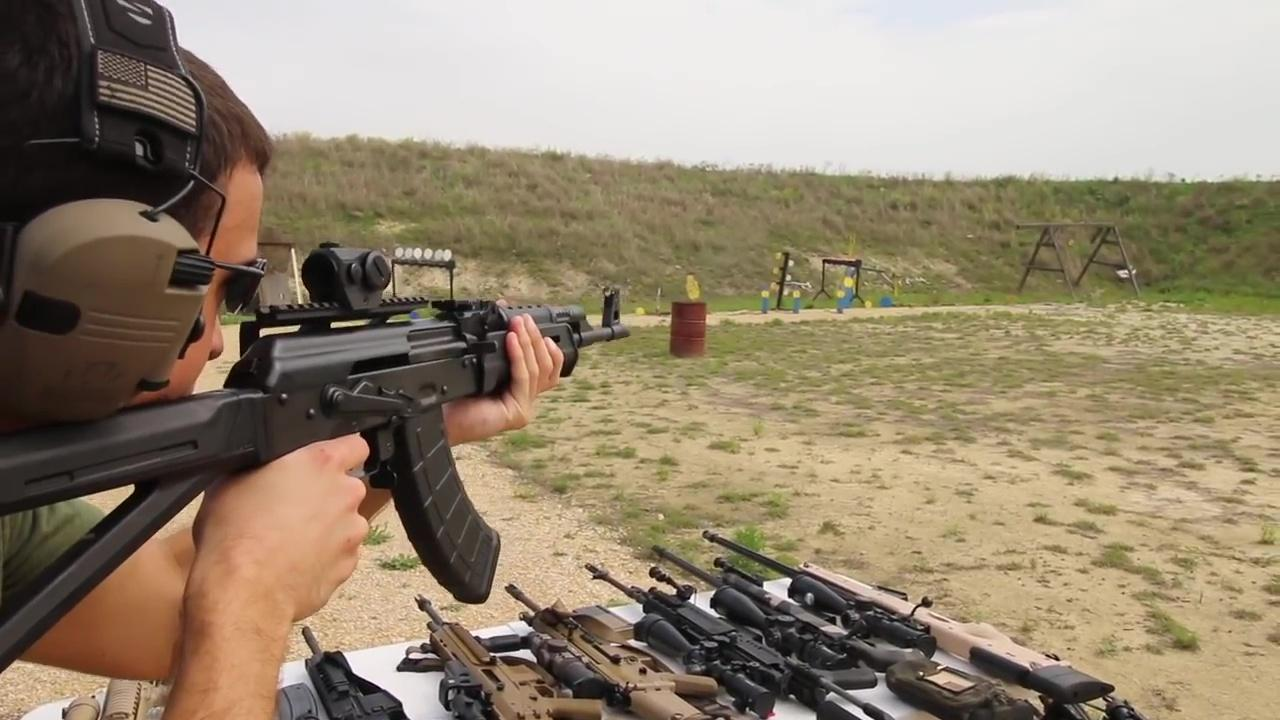Gun: (1, 263, 630, 684), (701, 524, 1139, 701), (645, 534, 1051, 720), (578, 560, 915, 720), (501, 579, 729, 720), (412, 585, 622, 720), (292, 615, 414, 720)
